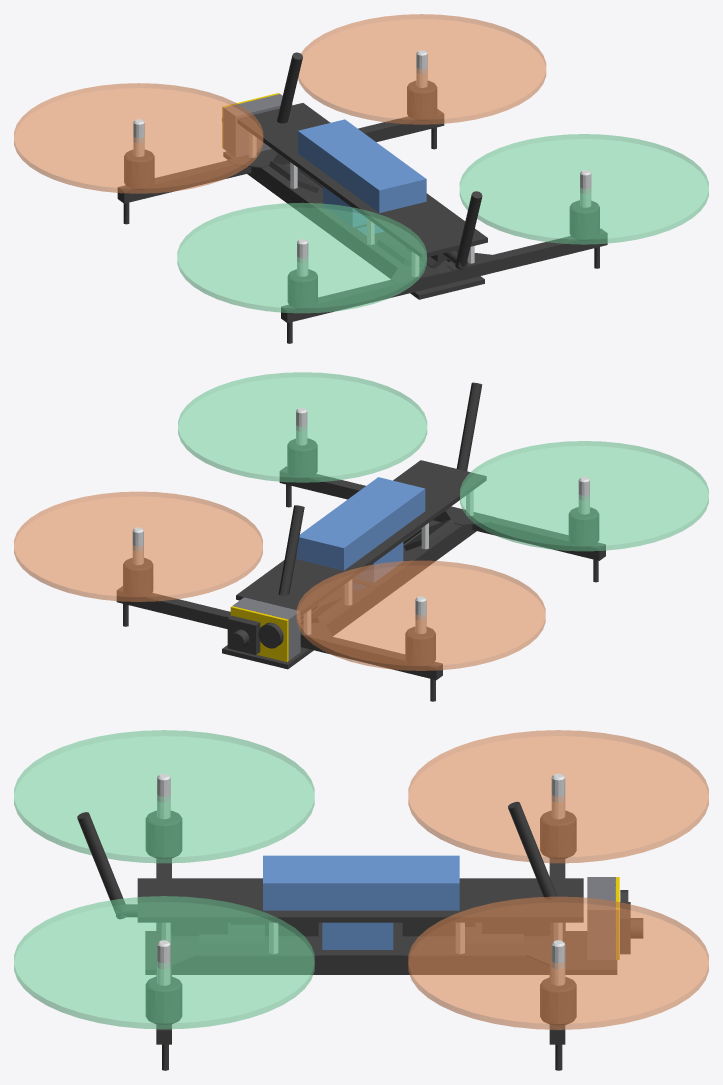
Rendered from quadcopter.glb.
The picture shows the model from 3 angles, top to bottom: view 1: azimuth 30°, elevation 25°; view 2: azimuth 150°, elevation 25°; view 3: azimuth 270°, elevation 25°; orthographic projection. The views are drawn at different scales.
Visible parts, largest first — view 1: 3DSMeshMatrix (×19); view 2: 3DSMeshMatrix (×22); view 3: 3DSMeshMatrix (×29).
Boxes of the visible parts, x1,y1,x2,y2 form: 3DSMeshMatrix (×19): [14, 14, 708, 322]; 3DSMeshMatrix (×22): [14, 372, 708, 680]; 3DSMeshMatrix (×29): [14, 730, 708, 1044].
Bounding box in the file's own units: 53034 × 14712 × 53002.
